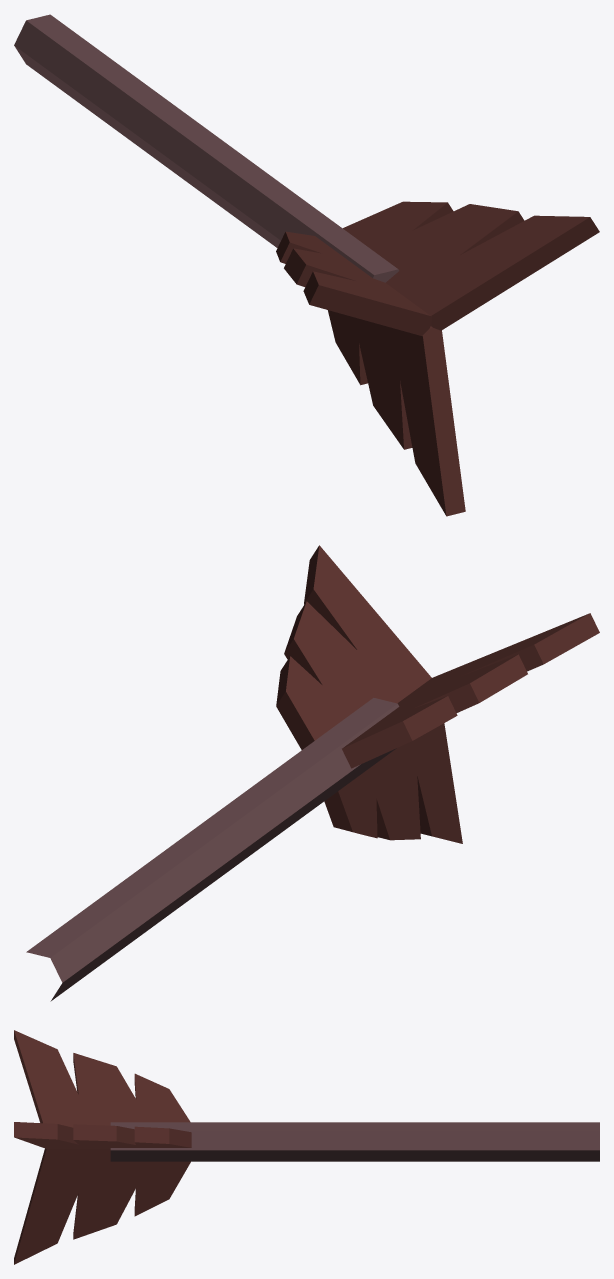
The model's file is Half_arrow.glb.
The picture shows the model from 3 angles, top to bottom: view 1: azimuth 30°, elevation 25°; view 2: azimuth 150°, elevation 25°; view 3: azimuth 270°, elevation 25°; orthographic projection. The views are drawn at different scales.
Visible parts, largest first — view 1: Arrow; view 2: Arrow; view 3: Arrow.
Part boxes in pixels (x1,y1,x2,y2): Arrow: [14, 14, 599, 516]; Arrow: [26, 545, 599, 1001]; Arrow: [14, 1030, 599, 1264].
Bounding box in the file's own units: 0.146 × 0.1269 × 0.3626.
